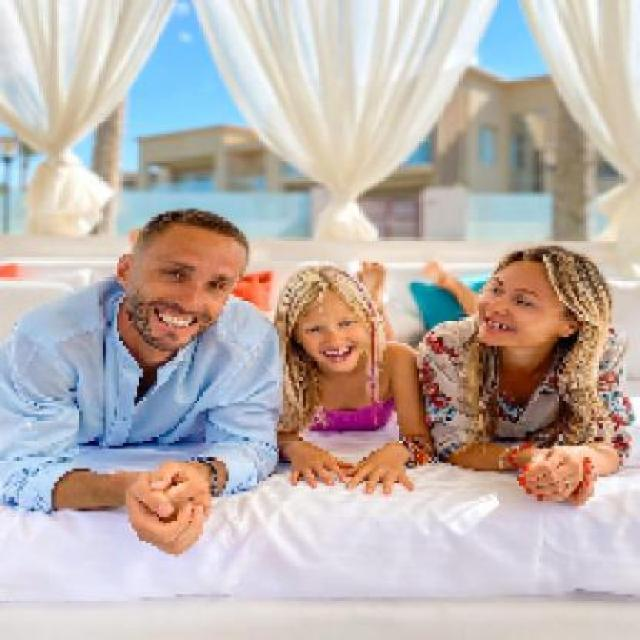child: (276, 256, 433, 493)
